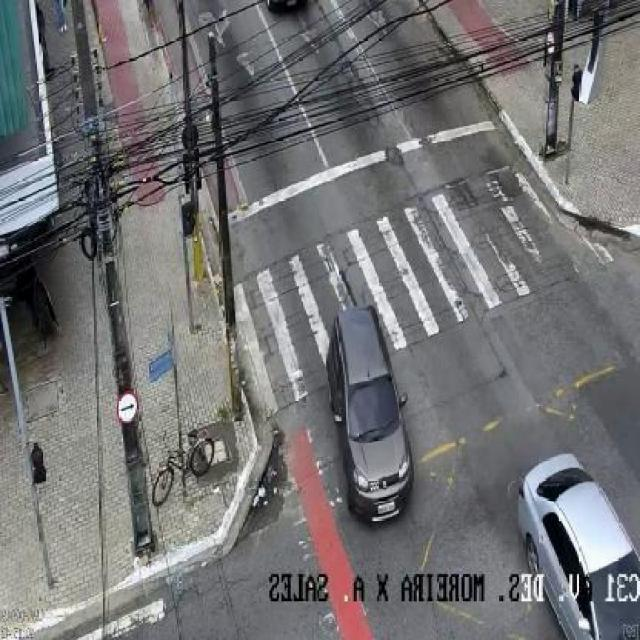Car: (312, 299, 433, 535), (506, 444, 640, 640)
